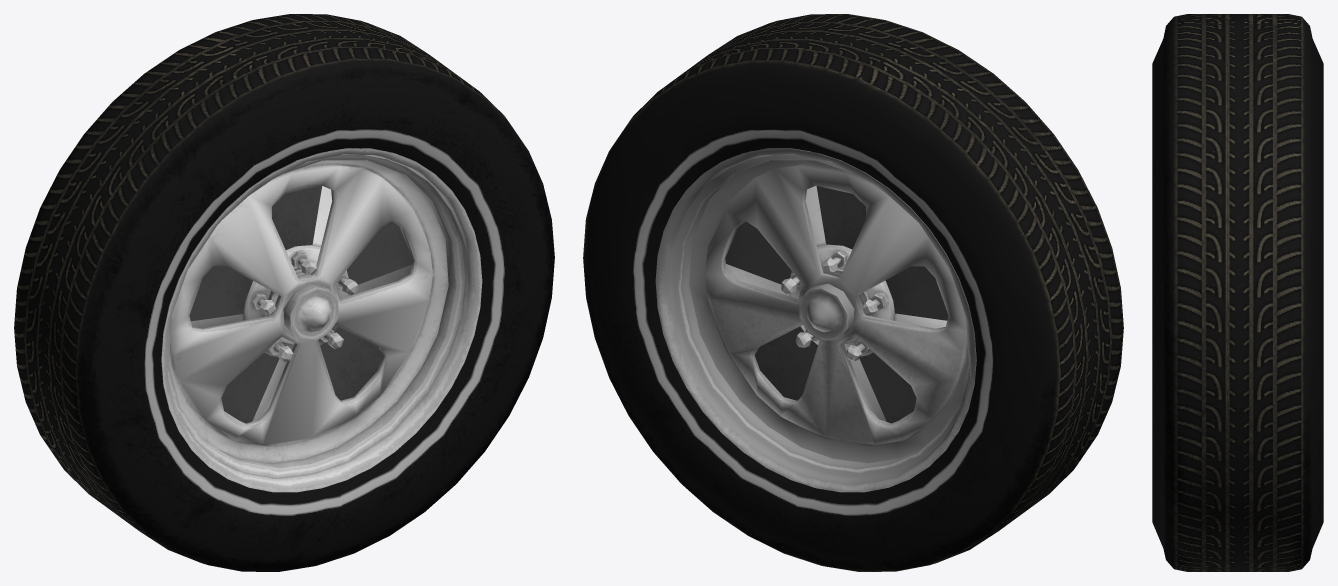
Rendered from wheel_d5.obj.
3 views of the same model, side by side, from view 1: azimuth 30°, elevation 25°; view 2: azimuth 150°, elevation 25°; view 3: azimuth 270°, elevation 25° (orthographic).
Parts seen in each view (by area): view 1: wheel1_Wheel_0; view 2: wheel1_Wheel_0; view 3: wheel1_Wheel_0.
Part boxes in pixels (x1,y1,x2,y2): wheel1_Wheel_0: (14, 14, 554, 571); wheel1_Wheel_0: (583, 14, 1123, 571); wheel1_Wheel_0: (1152, 14, 1323, 571).
Bounding box in the file's own units: 0.154 × 0.154 × 0.0472.
Materials: 1 (1 with a texture image).
